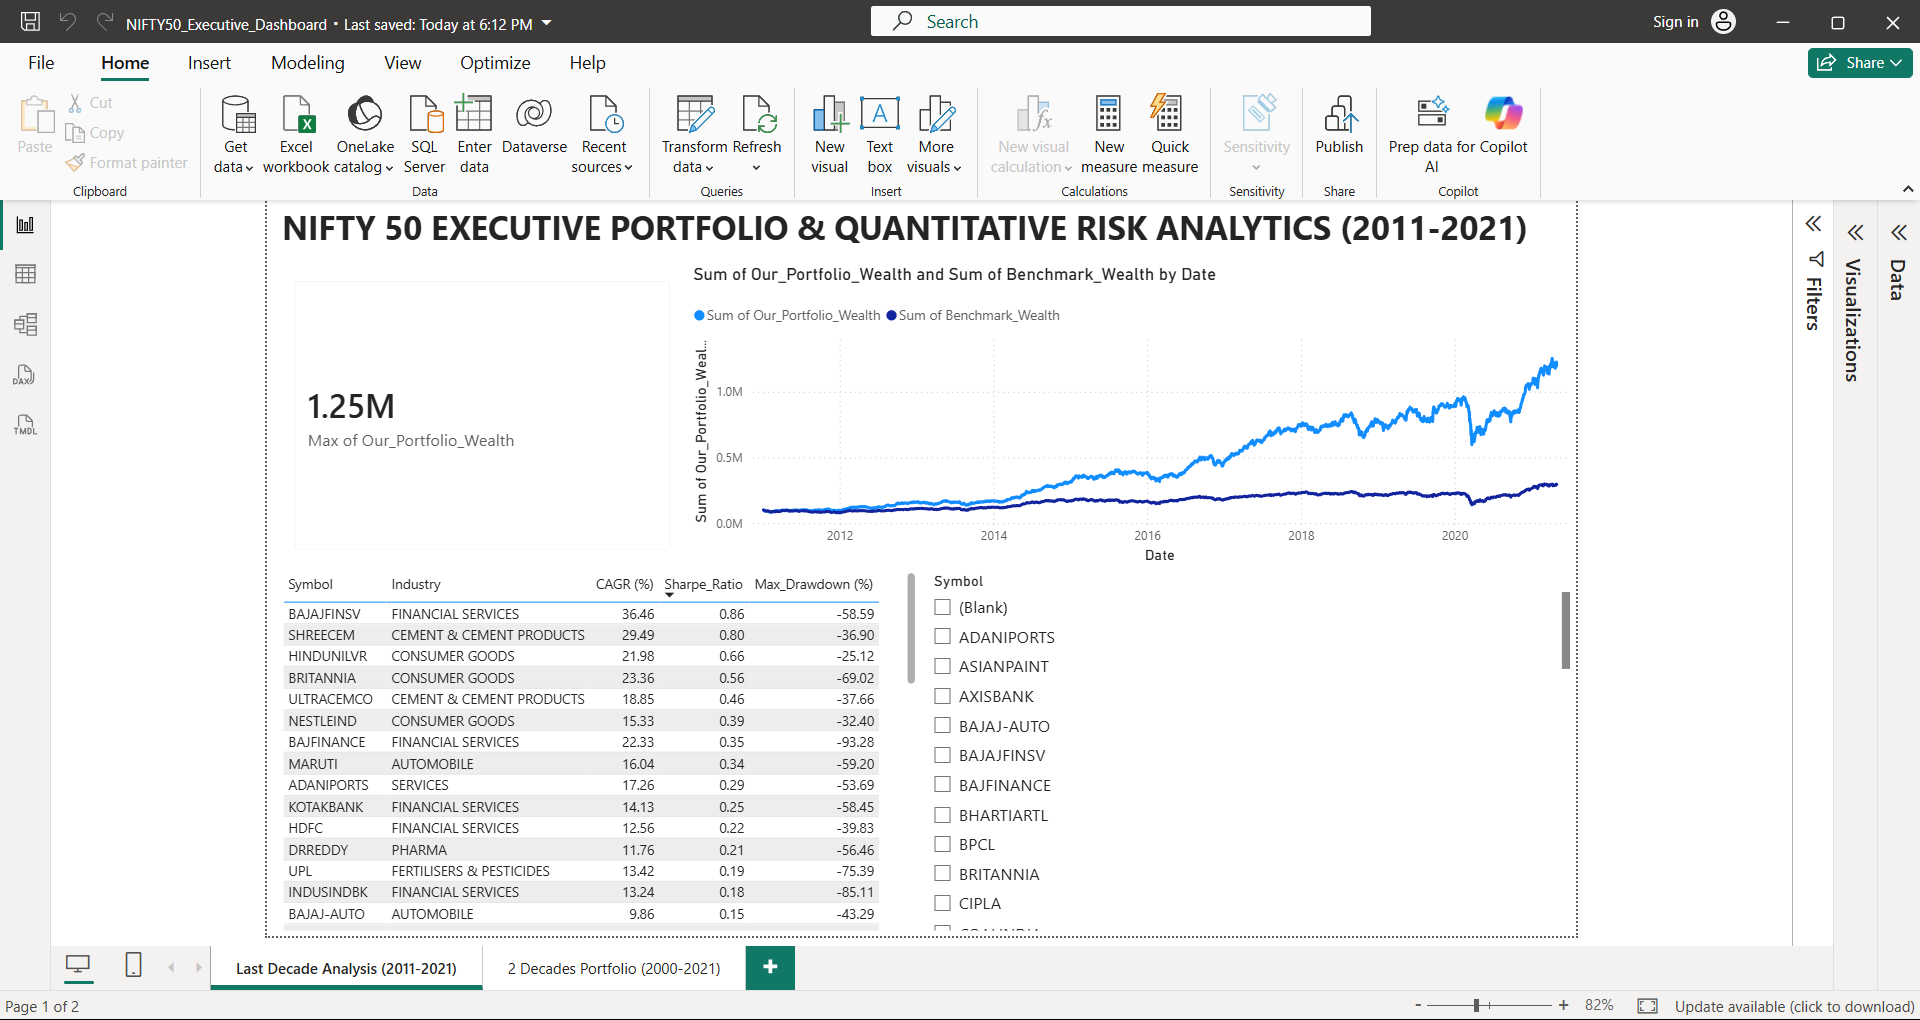

The dashboard page shown, as its layout file describes it:
{"tool":"powerbi","page":{"name":"Last Decade Analysis (2011-2021)","canvas":[1280,720],"ordinal":0},"visuals":[{"type":"cardVisual","fields":{"Data":["Max(PowerBI_Portfolio_Vs_Benchmark.Our_Portfolio_Wealth)"]},"box":[10,62.6,402.6,297.3],"z":0},{"type":"lineChart","fields":{"Category":["PowerBI_Portfolio_Vs_Benchmark.Date"],"Y":["Sum(PowerBI_Portfolio_Vs_Benchmark.Our_Portfolio_Wealth)","Sum(PowerBI_Portfolio_Vs_Benchmark.Benchmark_Wealth)"]},"box":[412.5,62.6,867.8,297.3],"z":1},{"type":"tableEx","fields":{"Values":["PowerBI_Stock_Metrics.Symbol","PowerBI_Stock_Metrics.Industry","PowerBI_Stock_Metrics.CAGR (%)","PowerBI_Stock_Metrics.Sharpe_Ratio","PowerBI_Stock_Metrics.Max_Drawdown (%)"]},"box":[10,359.9,630.2,359.9],"z":2},{"type":"slicer","fields":{"Values":["PowerBI_Stock_Metrics.Symbol"]},"box":[640.1,359.9,640.1,359.9],"z":3},{"type":"textbox","box":[10,0,1270.3,62.6],"z":4}]}

Visuals, with their boxes on the page's 1280x720 design canvas (x1, y1, x2, y2). These are canvas units, not pixel positions in the 1920x1020 screenshot, which may show the page scaled, cropped or inside an application window:
cardVisual - Max(PowerBI_Portfolio_Vs_Benchmark.Our_Portfolio_Wealth): (10,63,413,360)
lineChart - PowerBI_Portfolio_Vs_Benchmark.Date x Sum(PowerBI_Portfolio_Vs_Benchmark.Our_Portfolio_Wealth): (412,63,1280,360)
tableEx - PowerBI_Stock_Metrics.Symbol x PowerBI_Stock_Metrics.Industry: (10,360,640,720)
slicer - PowerBI_Stock_Metrics.Symbol: (640,360,1280,720)
textbox: (10,0,1280,63)
